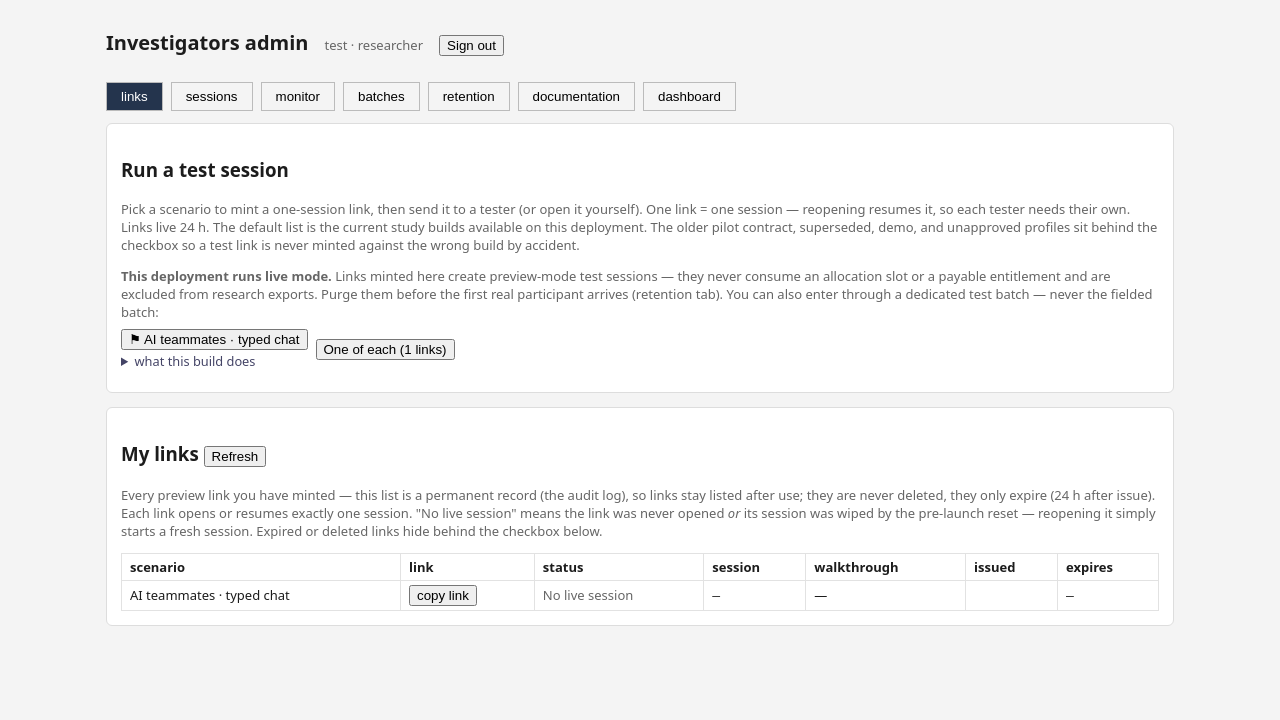
Test: AdminApp › uses neutral default-build labels without changing the minted arm or historical records
This screenshot has width=1280, height=720.
Click the button "⚑ AI teammates · typed chat": point(214, 340) [121,329,308,350]
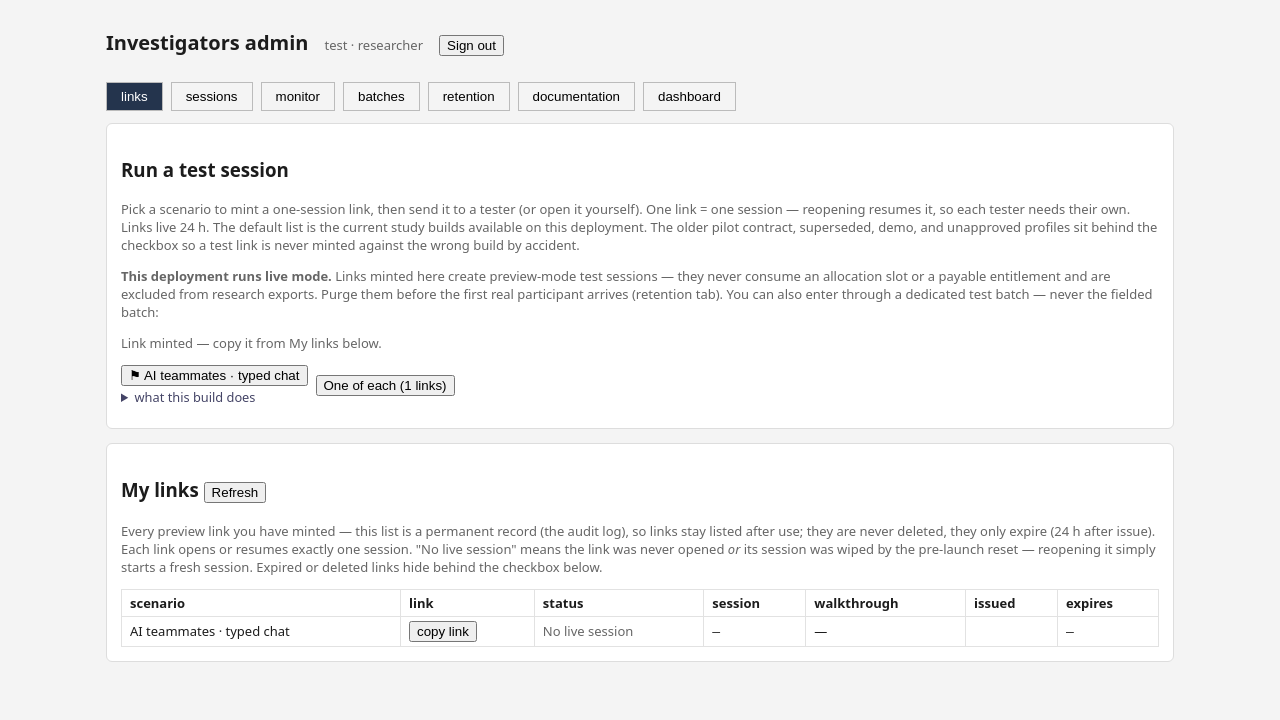
Now the message "Link minted — copy it from My links below." is shown, box [121,334,382,352]
Click the button "monitor": point(298, 96) [260,82,335,111]
(page scrolled)
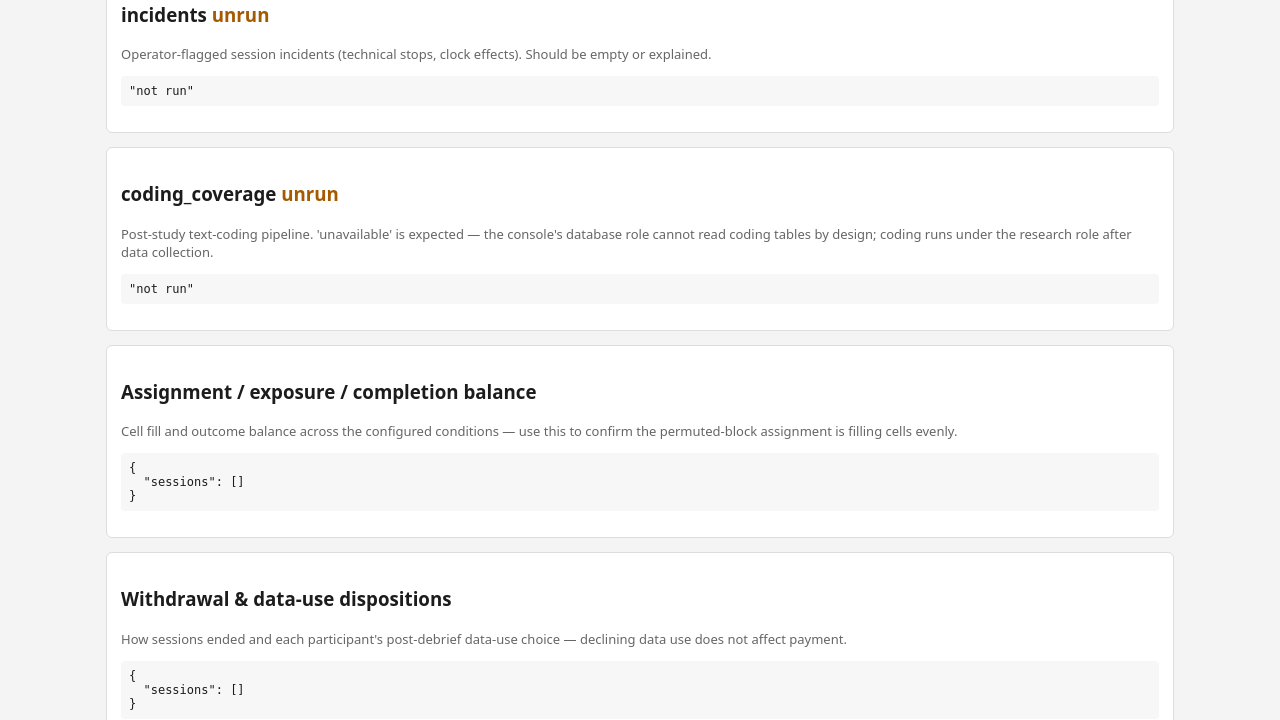
Now the heading "Assignment / exposure / completion balance" is shown, box [121,379,536,404]
